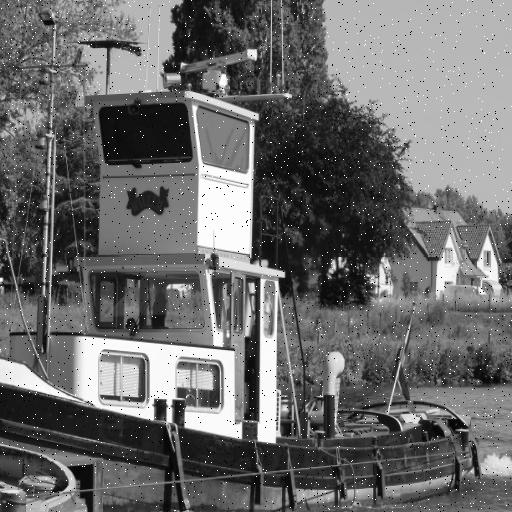tugboat: (1, 1, 485, 512)
